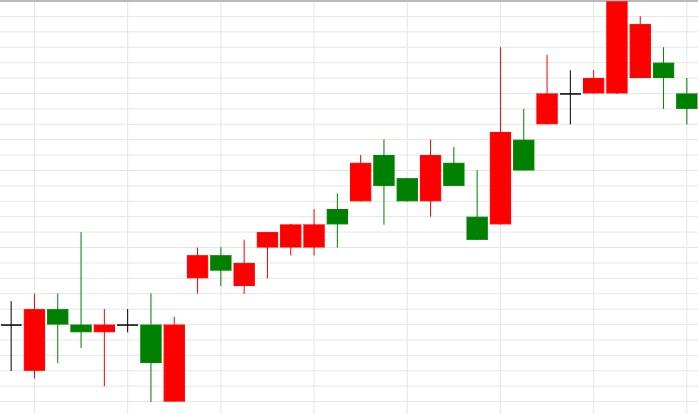bearish_engulfing_fall: (233, 140, 395, 294)
inverse_hammer_rise: (419, 139, 489, 241)
